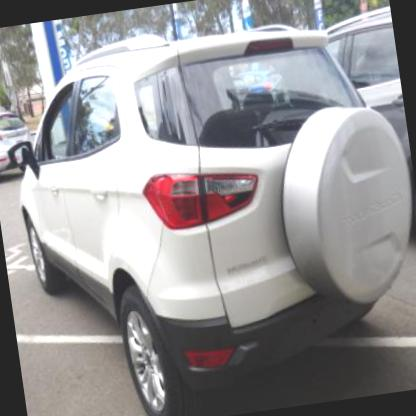car: (11, 8, 415, 415), (247, 0, 415, 294), (0, 104, 39, 182), (245, 63, 279, 96), (231, 70, 250, 100)
